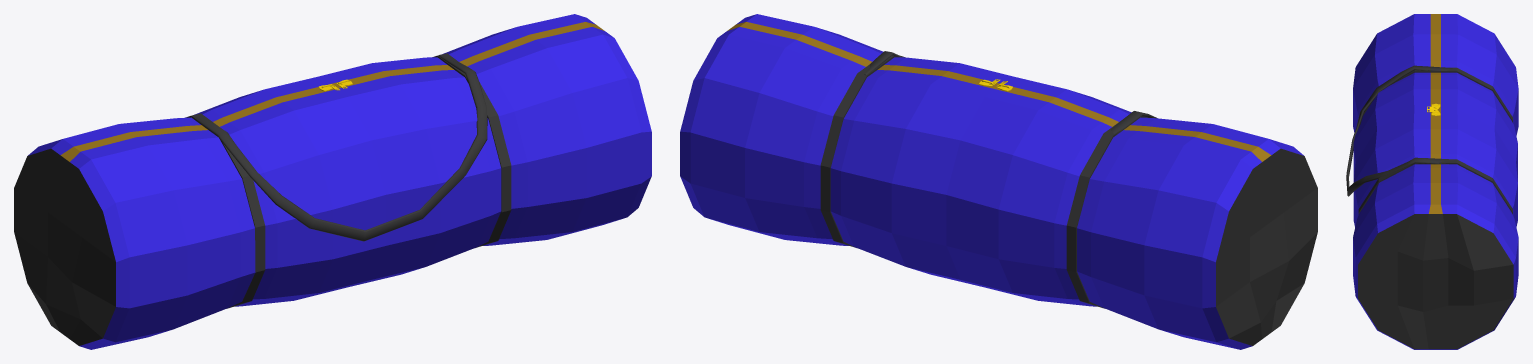
Rendered from tent_bag.glb.
The picture shows the model from 3 angles, left to right: view 1: azimuth 30°, elevation 25°; view 2: azimuth 150°, elevation 25°; view 3: azimuth 270°, elevation 25°; orthographic projection. The views are drawn at different scales.
Parts seen in each view (by area): view 1: Bag, Bag Handle, Bag Handle Strap Right, Bag Handle Strap Left; view 2: Bag, Bag Handle Strap Right, Bag Handle Strap Left, Bag Handle; view 3: Bag, Bag Handle, Bag Handle Strap Right, Bag Handle Strap Left.
Part boxes in pixels (box(x1,y1,x2,y2)): Bag: box(14, 14, 651, 349); Bag Handle: box(193, 54, 487, 241); Bag Handle Strap Right: box(432, 53, 511, 247); Bag Handle Strap Left: box(185, 113, 265, 308); Bag: box(680, 14, 1317, 349); Bag Handle Strap Right: box(820, 55, 897, 247); Bag Handle Strap Left: box(1066, 116, 1146, 308); Bag Handle: box(864, 51, 1157, 135); Bag: box(1353, 14, 1518, 349); Bag Handle: box(1346, 65, 1456, 196); Bag Handle Strap Right: box(1358, 159, 1512, 214); Bag Handle Strap Left: box(1363, 67, 1512, 122).
Bounding box in the file's own units: 4.3 × 1.43 × 1.51.
